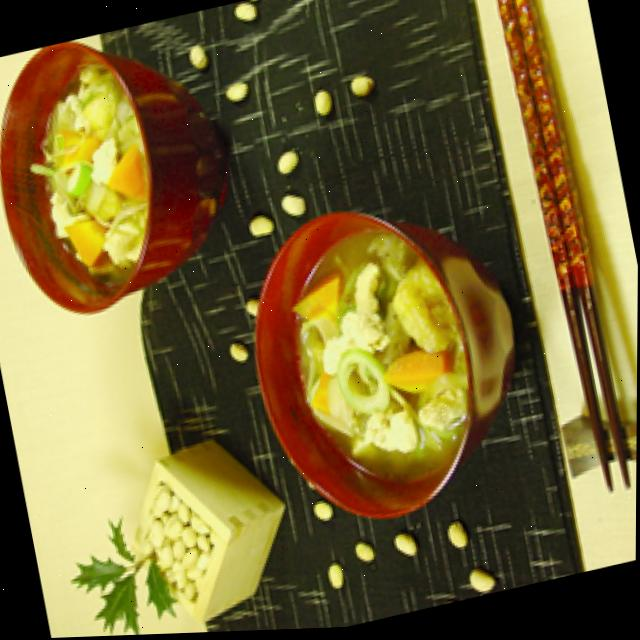蔬菜料理: (211, 156, 564, 592), (0, 7, 272, 386)
